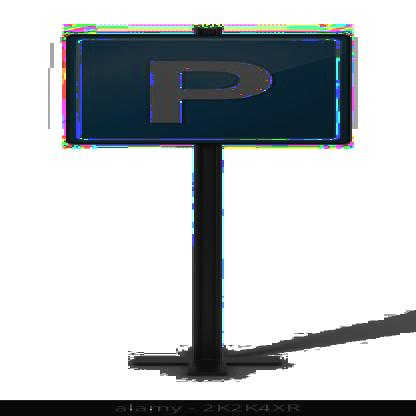Parking: (61, 22, 355, 150)
vehicle: (74, 35, 355, 130)
